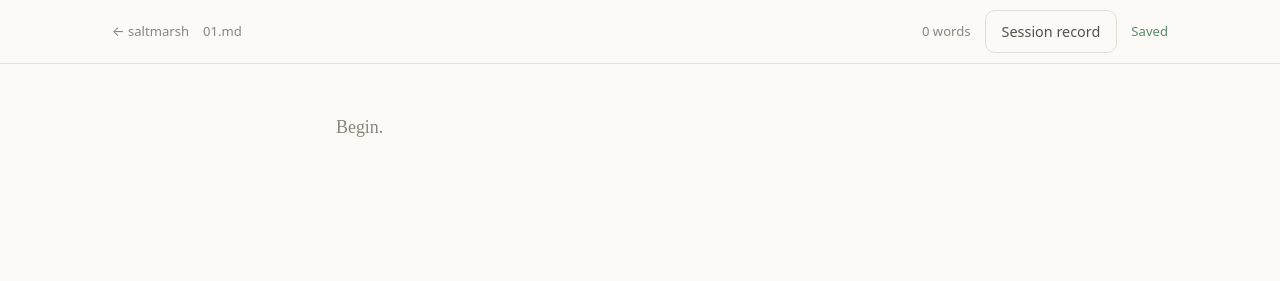
Scenario: the session record panel › states that typing is counted and never logged
Click the button "Session record": (1051, 32) [985,10,1117,53]
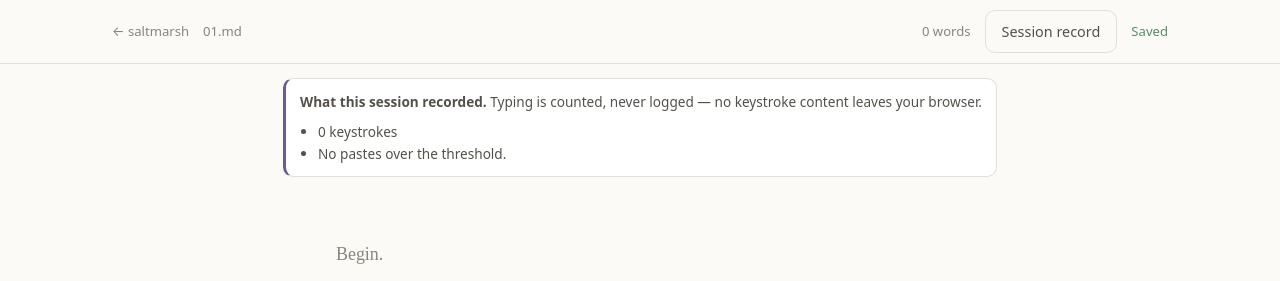
Now the text "no keystroke content leaves your browser" is shown, box [487,92,982,111]
